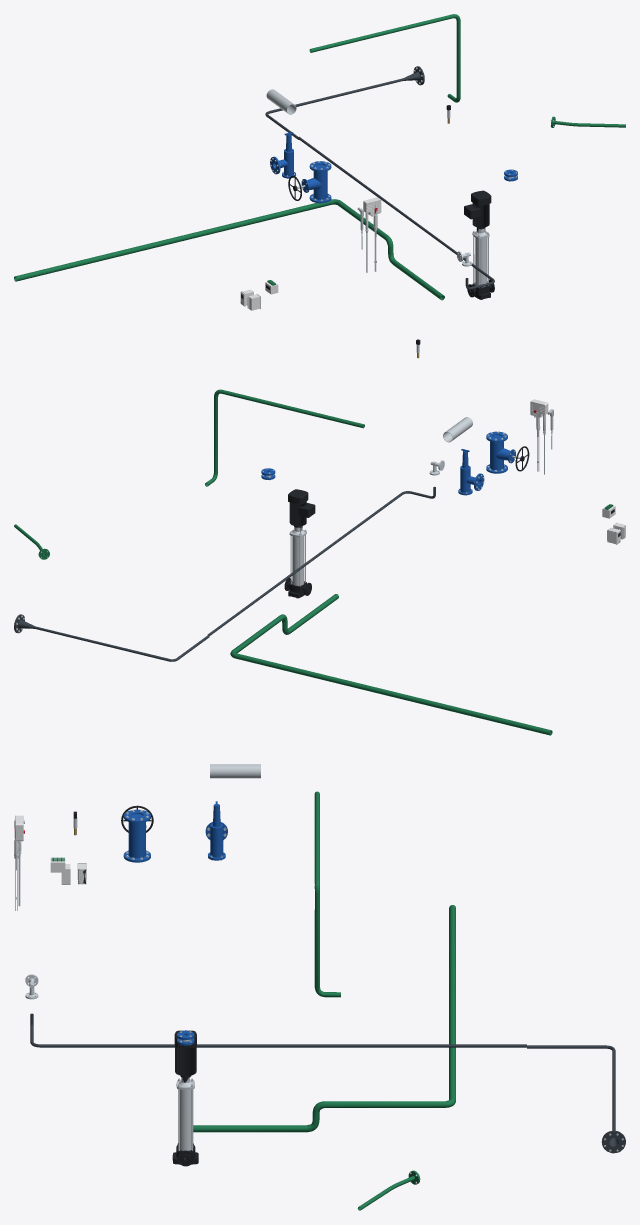
Rendered from s4000-4-DcRYHsL1.glb.
3 renders of one model, top to bottom at view 1: azimuth 30°, elevation 25°; view 2: azimuth 150°, elevation 25°; view 3: azimuth 270°, elevation 25°, orthographic. The views are drawn at different scales.
Parts seen in each view (by area): view 1: suction_common / green, to_direct / green, steam_manual / blue, tds_common / dark, pump_1 CAD solid 15, tds_to_fv / dark, safety_2 / blue, pump_1 CAD solid 2, lcs600 CAD solid 0; view 2: suction_common / green, to_direct / green, tds_common / dark, tds_to_fv / dark, steam_manual / blue, pump_1 CAD solid 15, safety_2 / blue, pump_1 CAD solid 2; view 3: suction_common / green, tds_common / dark, to_direct / green, tds_to_fv / dark, steam_manual / blue, pump_1 CAD solid 2, safety_2 / blue, pump_1 CAD solid 15, gpz_bypass / steel.
Part boxes in pixels (bbox=[...]): suction_common / green: bbox=[14, 199, 444, 300]; to_direct / green: bbox=[309, 14, 460, 102]; steam_manual / blue: bbox=[301, 161, 331, 203]; tds_common / dark: bbox=[298, 136, 494, 289]; pump_1 CAD solid 15: bbox=[464, 190, 491, 228]; tds_to_fv / dark: bbox=[265, 66, 424, 139]; safety_2 / blue: bbox=[270, 132, 295, 178]; pump_1 CAD solid 2: bbox=[475, 237, 486, 287]; lcs600 CAD solid 0: bbox=[363, 197, 381, 272]; suction_common / green: bbox=[230, 594, 552, 735]; to_direct / green: bbox=[205, 389, 364, 486]; tds_common / dark: bbox=[207, 486, 435, 635]; tds_to_fv / dark: bbox=[14, 614, 209, 661]; steam_manual / blue: bbox=[486, 431, 515, 473]; pump_1 CAD solid 15: bbox=[288, 489, 315, 526]; safety_2 / blue: bbox=[458, 449, 484, 495]; pump_1 CAD solid 2: bbox=[292, 536, 304, 585]; suction_common / green: bbox=[193, 905, 455, 1132]; tds_common / dark: bbox=[30, 1013, 526, 1047]; to_direct / green: bbox=[314, 791, 340, 997]; tds_to_fv / dark: bbox=[527, 1045, 625, 1153]; steam_manual / blue: bbox=[123, 809, 150, 862]; pump_1 CAD solid 2: bbox=[178, 1089, 193, 1150]; safety_2 / blue: bbox=[205, 801, 227, 860]; pump_1 CAD solid 15: bbox=[174, 1030, 196, 1076]; gpz_bypass / steel: bbox=[210, 764, 260, 778].
Bounding box in the file's own units: 6.71 × 2.68 × 4.93.
